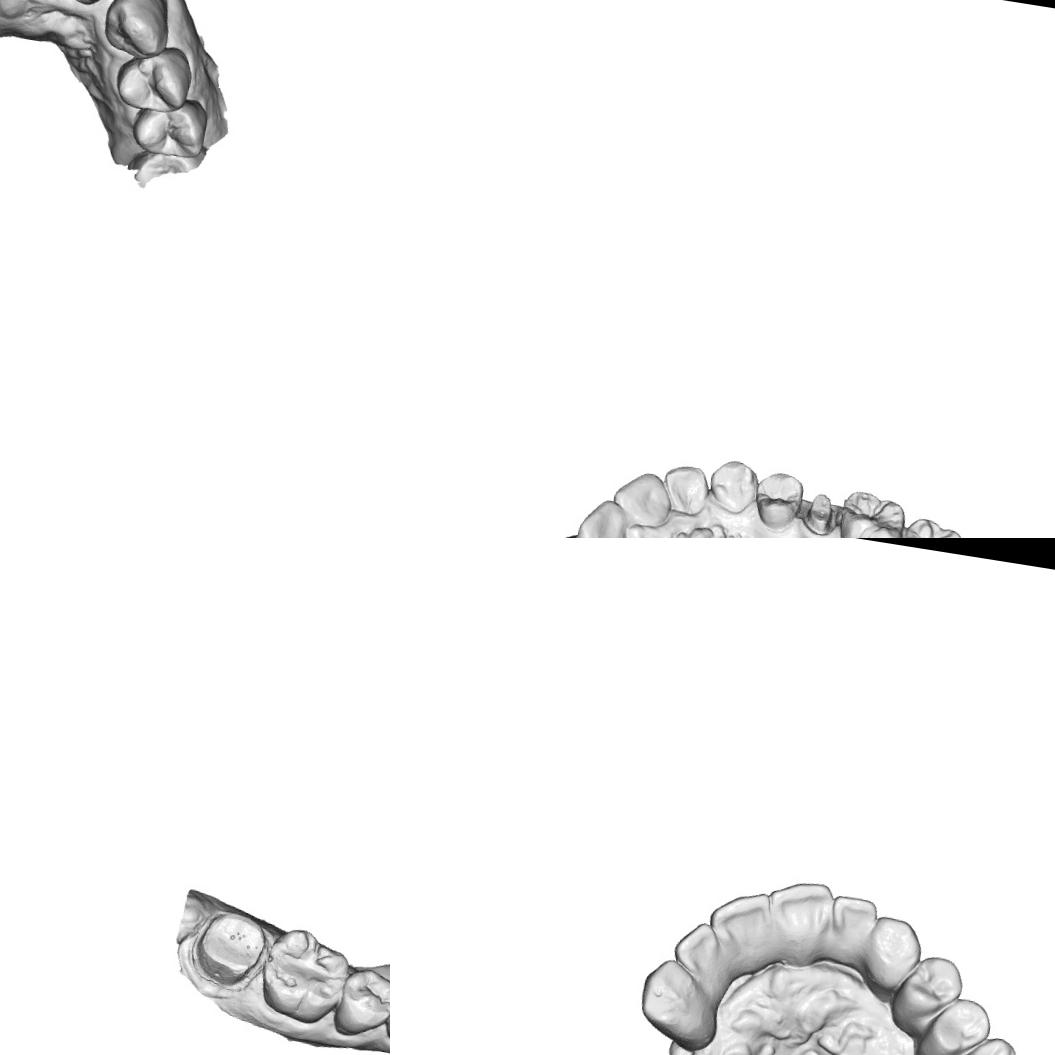canine: (634, 954, 718, 1040), (864, 910, 928, 999), (98, 0, 177, 64), (703, 454, 762, 518)
crown: (182, 902, 276, 996), (800, 488, 841, 538)
incisor: (761, 875, 837, 959), (703, 884, 780, 954), (607, 465, 677, 533), (822, 893, 885, 965), (669, 914, 726, 978), (656, 460, 714, 520), (572, 493, 635, 538)
molar: (253, 922, 352, 1032), (833, 486, 910, 538), (951, 1031, 1033, 1055), (896, 512, 970, 538)
premolar: (112, 39, 198, 118), (128, 91, 215, 164), (920, 989, 995, 1055), (901, 950, 967, 1024), (333, 963, 390, 1042), (750, 466, 807, 534)
